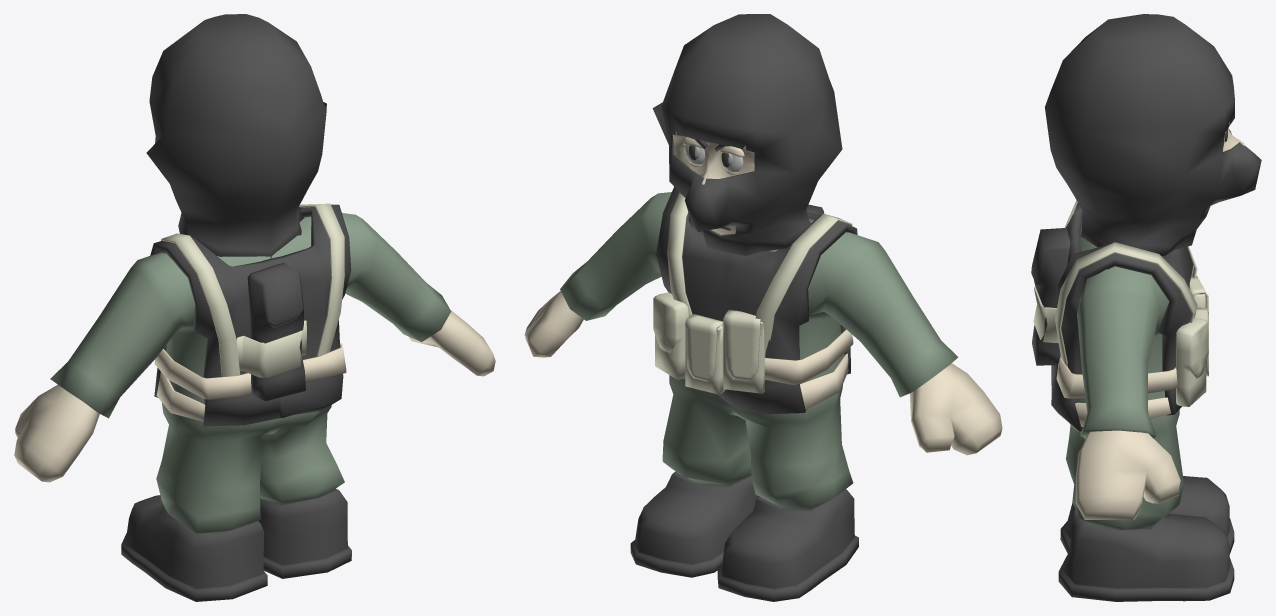
The model's file is soldier_terror_black.fbx.
The picture shows the model from 3 angles, left to right: view 1: azimuth 30°, elevation 25°; view 2: azimuth 150°, elevation 25°; view 3: azimuth 270°, elevation 25°; orthographic projection.
Visible parts, largest first — view 1: Iraq_Soldier_Body_Cam; view 2: Iraq_Soldier_Body_Cam; view 3: Iraq_Soldier_Body_Cam.
Part boxes in pixels (x1,y1,x2,y2): Iraq_Soldier_Body_Cam: [14, 14, 495, 601]; Iraq_Soldier_Body_Cam: [524, 14, 1002, 601]; Iraq_Soldier_Body_Cam: [1031, 14, 1261, 601].
Bounding box in the file's own units: 49.18 × 53.26 × 20.9.
